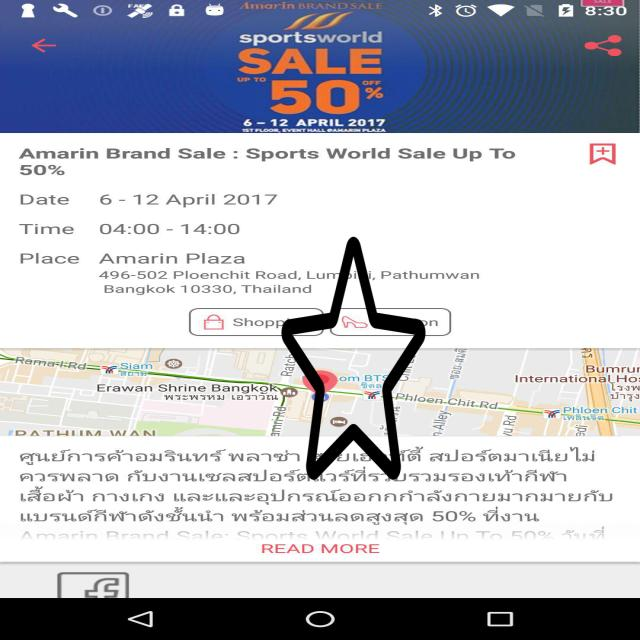forced continuity: (282, 231, 426, 485)
